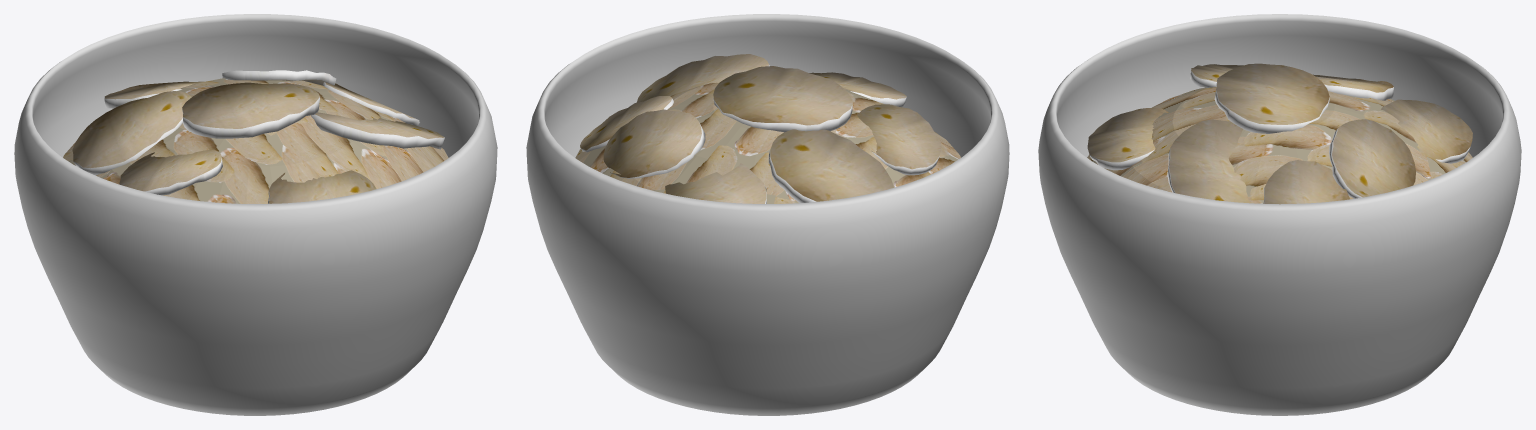
File: ShowCooking.fbx
The picture shows the model from 3 angles, left to right: view 1: azimuth 30°, elevation 25°; view 2: azimuth 150°, elevation 25°; view 3: azimuth 270°, elevation 25°; orthographic projection.
Parts seen in each view (by area): view 1: Sphere, Sphere.001, mozzarella.006, mozzarella.003, mozzarella.002, mozzarella.001, mozzarella.005, mozzarella, mozzarella.007, mozzarella.004; view 2: Sphere, Sphere.001, mozzarella.006, mozzarella.003, mozzarella, mozzarella.002, mozzarella.001, mozzarella.007, mozzarella.004, mozzarella.005; view 3: Sphere, Sphere.001, mozzarella.006, mozzarella, mozzarella.001, mozzarella.007, mozzarella.005, mozzarella.004, mozzarella.003, mozzarella.002.
Part boxes in pixels (x1=…): Sphere: x1=14, y1=14, x2=497, y2=415; Sphere.001: x1=63, y1=78, x2=448, y2=203; mozzarella.006: x1=182, y1=82, x2=320, y2=138; mozzarella.003: x1=72, y1=91, x2=191, y2=175; mozzarella.002: x1=119, y1=149, x2=222, y2=195; mozzarella.001: x1=311, y1=112, x2=444, y2=149; mozzarella.005: x1=268, y1=170, x2=376, y2=203; mozzarella: x1=222, y1=70, x2=336, y2=85; mozzarella.007: x1=104, y1=81, x2=203, y2=108; mozzarella.004: x1=323, y1=82, x2=419, y2=126; Sphere: x1=526, y1=14, x2=1009, y2=415; Sphere.001: x1=575, y1=82, x2=960, y2=203; mozzarella.006: x1=713, y1=66, x2=852, y2=132; mozzarella.003: x1=768, y1=129, x2=893, y2=202; mozzarella: x1=603, y1=109, x2=705, y2=178; mozzarella.002: x1=857, y1=104, x2=941, y2=175; mozzarella.001: x1=637, y1=54, x2=769, y2=102; mozzarella.007: x1=665, y1=163, x2=766, y2=203; mozzarella.004: x1=580, y1=96, x2=673, y2=152; mozzarella.005: x1=809, y1=72, x2=906, y2=107; Sphere: x1=1038, y1=14, x2=1521, y2=415; Sphere.001: x1=1087, y1=87, x2=1472, y2=203; mozzarella.006: x1=1214, y1=63, x2=1329, y2=133; mozzarella: x1=1329, y1=119, x2=1415, y2=198; mozzarella.001: x1=1167, y1=119, x2=1250, y2=203; mozzarella.007: x1=1381, y1=99, x2=1472, y2=163; mozzarella.005: x1=1087, y1=107, x2=1168, y2=170; mozzarella.004: x1=1263, y1=160, x2=1349, y2=204; mozzarella.003: x1=1313, y1=74, x2=1393, y2=100; mozzarella.002: x1=1190, y1=64, x2=1243, y2=87.
Size of the model in its own units: 39.86 by 23.43 by 39.86.
10 materials, 9 textured.
